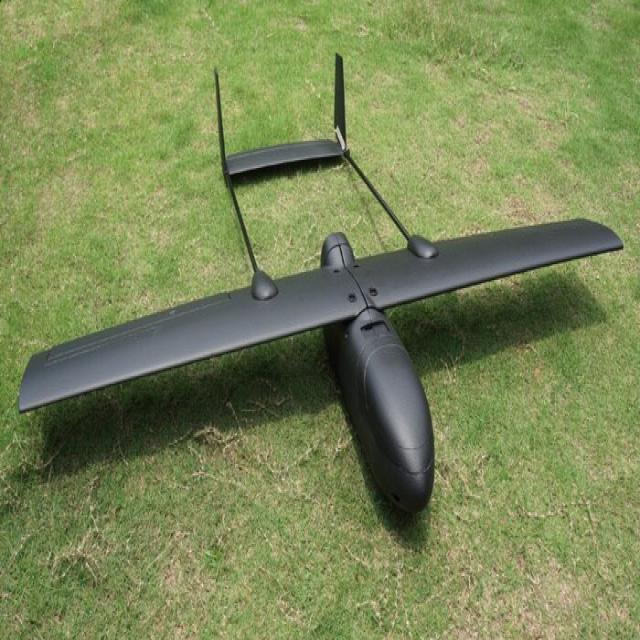iha: (12, 64, 628, 509)
